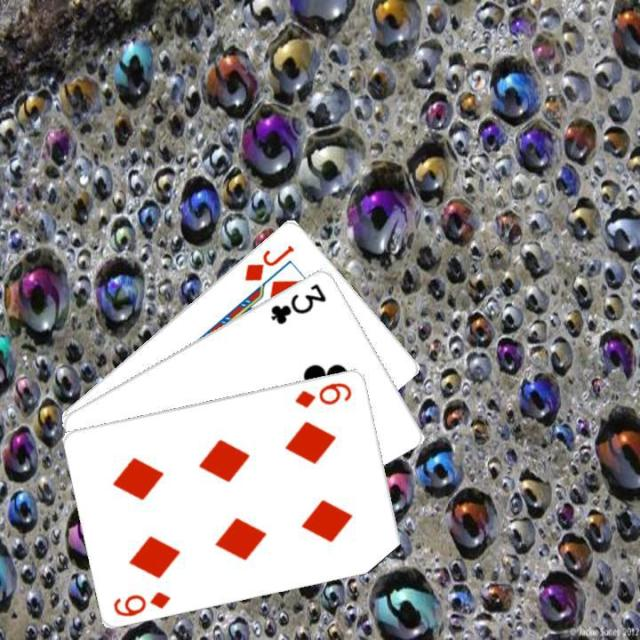3C: (267, 279, 329, 326)
6D: (291, 378, 354, 410), (110, 586, 172, 618)
JD: (240, 240, 296, 283)
